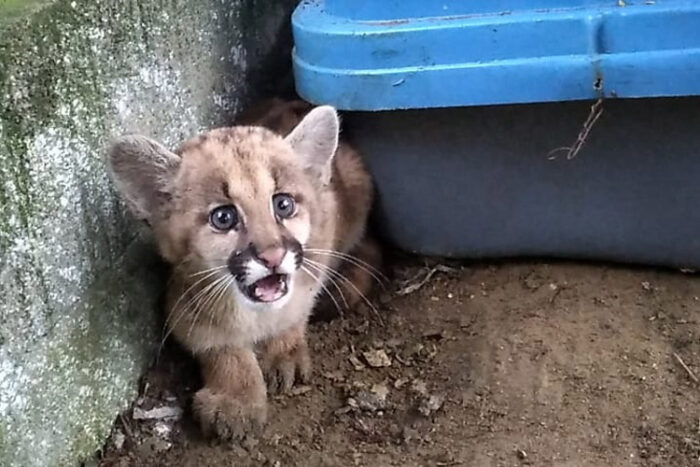OncaParda: (102, 99, 391, 447)
